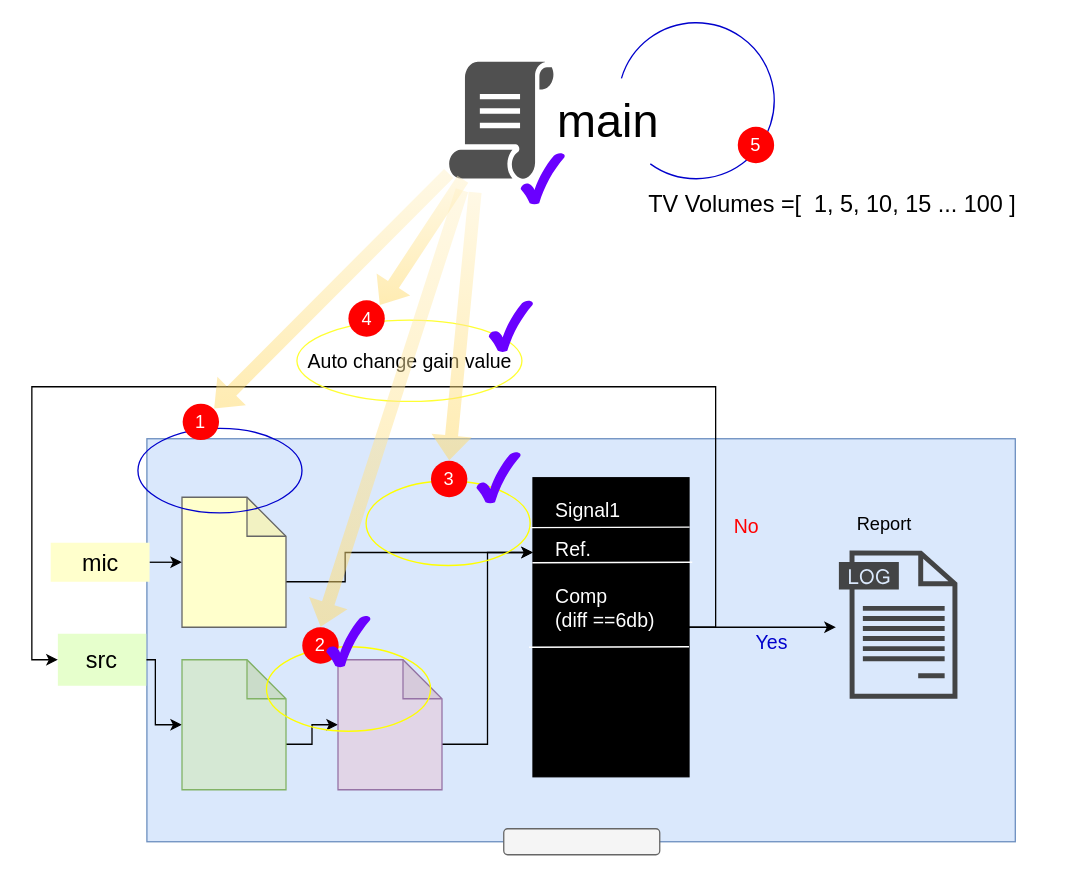
Image size: 1065x880. Some labels were removed from this diagram. Here are the shapes that lost their labels. From the top down, the centre of each, then its label:
At (219,470): "batch file to generate data".
At (447,523): "batch file to display all results".
At (389,724): "manually convert 32bit to 16bit".
At (581,841): "SONY".
